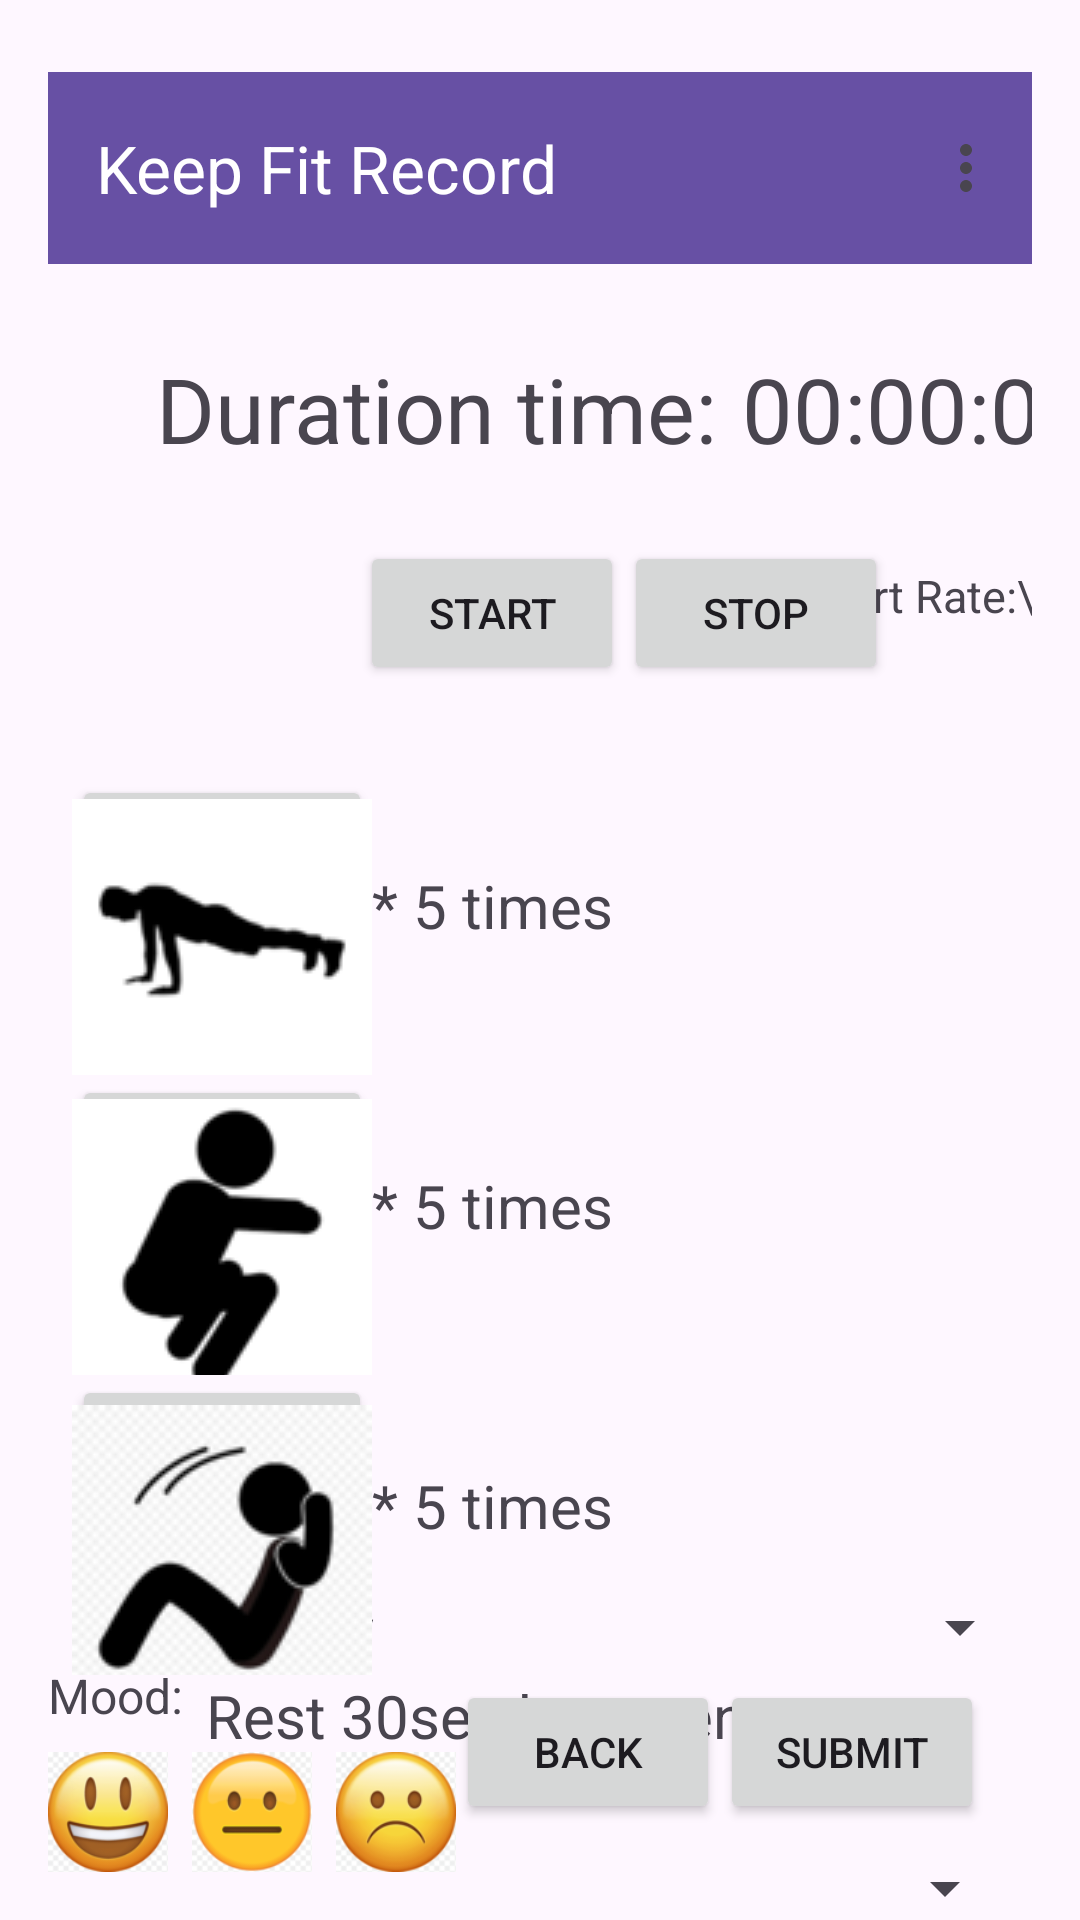

Icon bounding boxes for this 1080x1920 phone screenshot, format (x1, y1, x2, y2):
bad: (336, 1752, 456, 1872)
happy: (48, 1752, 168, 1872)
neutral: (193, 1753, 311, 1871)
